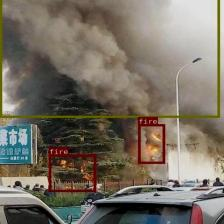fire: (48, 154, 96, 192), (138, 124, 164, 163)
smoke: (0, 0, 219, 117)
